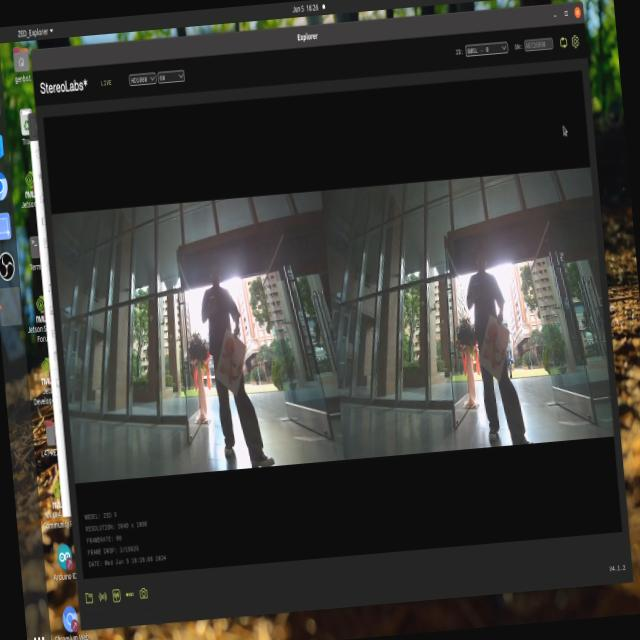red: (484, 317, 522, 374), (221, 343, 237, 384)
